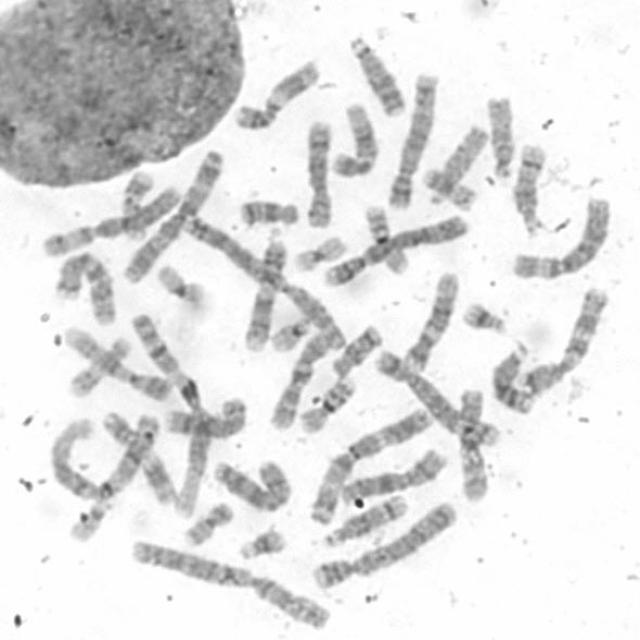A1: (126, 308, 215, 520), (45, 406, 164, 504)
A2: (178, 210, 350, 354), (125, 536, 335, 634)
A3: (305, 402, 437, 527), (118, 143, 226, 284)
B4: (307, 497, 459, 591), (318, 212, 471, 290)
B5: (370, 347, 503, 449), (383, 66, 440, 210)
C10: (264, 324, 336, 433), (455, 384, 488, 499)
C11: (95, 408, 179, 507), (230, 54, 321, 132)
C12: (398, 266, 462, 374), (326, 97, 380, 179)
C6: (38, 181, 183, 258), (509, 194, 612, 280)
C7: (514, 282, 611, 397), (49, 245, 119, 327)
C8: (158, 392, 250, 441), (303, 116, 335, 229)
C9: (60, 321, 174, 404), (240, 233, 290, 354)
D13: (345, 30, 408, 119), (487, 338, 538, 415)
D14: (320, 488, 410, 548), (509, 137, 549, 238)
D15: (423, 122, 489, 207), (482, 93, 516, 182)
E16: (360, 199, 412, 277), (295, 370, 358, 434)
E17: (63, 331, 132, 399), (118, 166, 156, 241)
E18: (328, 322, 383, 378), (236, 195, 302, 227)
F19: (153, 260, 208, 308), (289, 231, 346, 275)
F20: (421, 164, 479, 214), (178, 497, 234, 547)
G21: (234, 524, 288, 562), (459, 299, 510, 337)
G22: (64, 496, 116, 544), (266, 311, 314, 353)
X: (336, 444, 446, 505), (208, 454, 293, 514)
